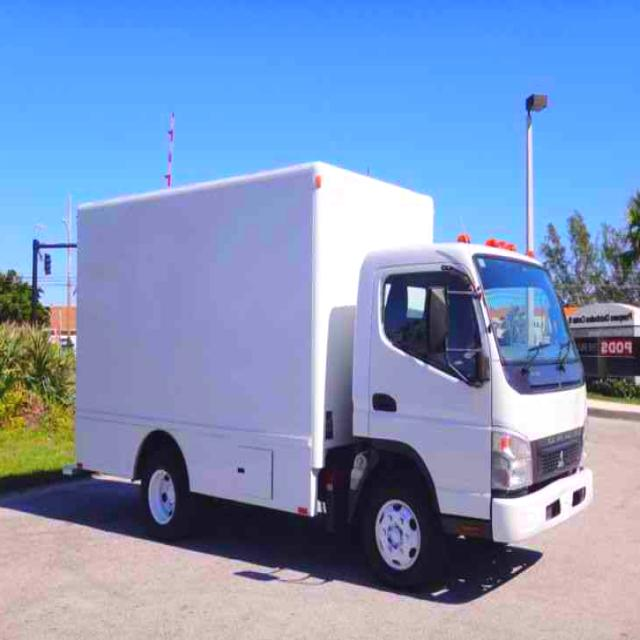truck: (75, 159, 594, 586)
